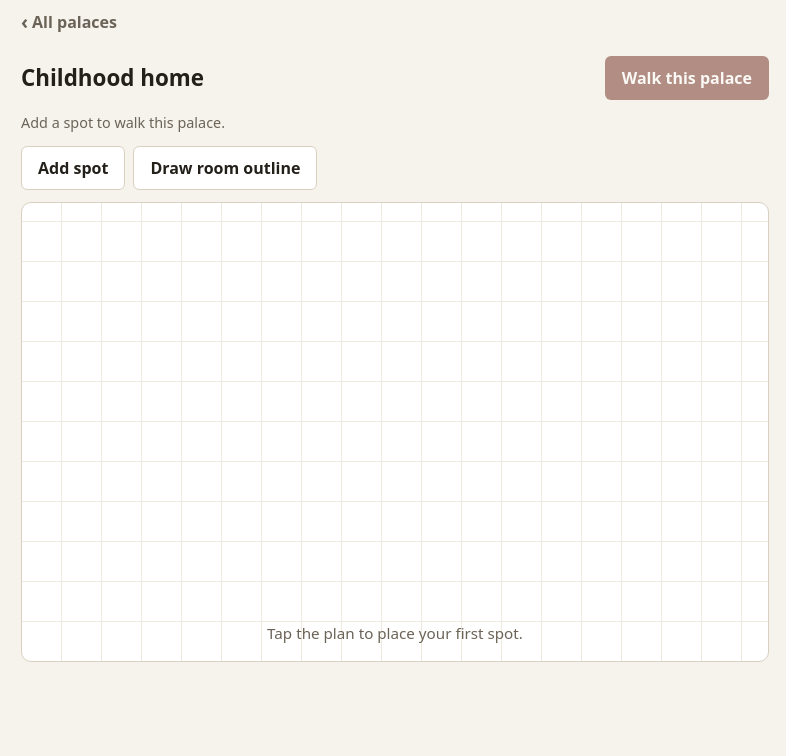
it: PalaceEditor › the keyboard Add spot button places a spot and announces it
Check: the heading "Childhood home" is shown, box x1=21 y1=65 x2=204 y2=92
Click the button "Add spot".
click(73, 168)  # box x1=21 y1=146 x2=125 y2=190
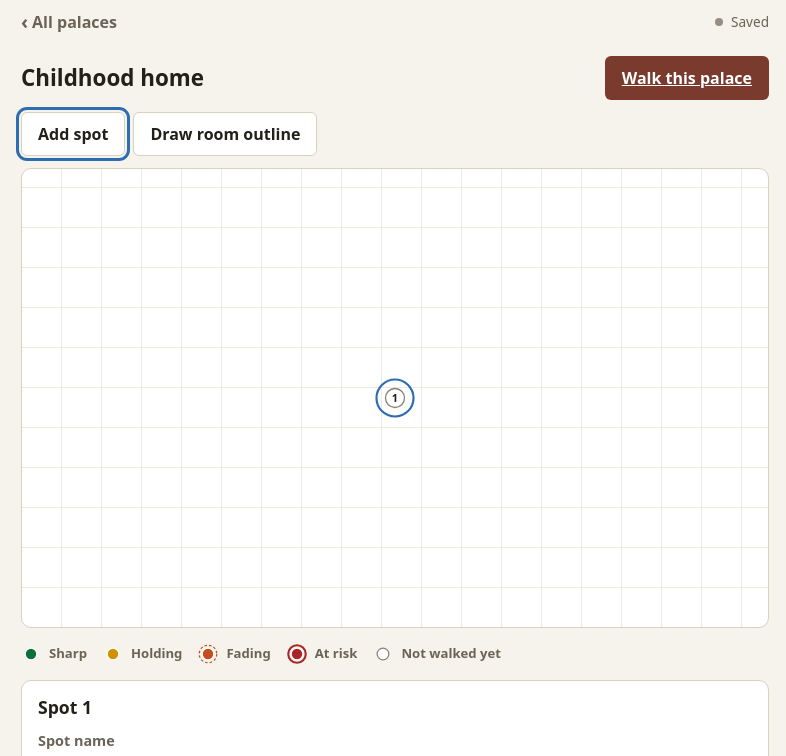
Check: the heading "Spot 1" is shown, box x1=38 y1=695 x2=92 y2=719
